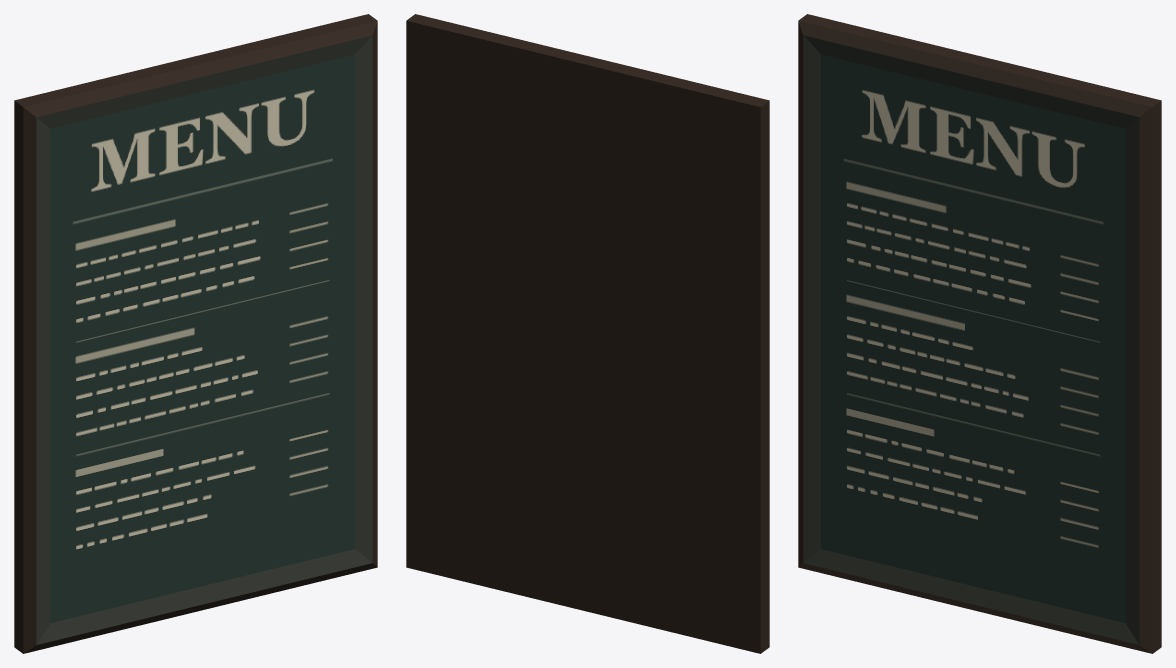
The model's file is Diner_Menu_Board_Vertical_Unity.fbx.
3 renders of one model, left to right at view 1: azimuth 30°, elevation 25°; view 2: azimuth 150°, elevation 25°; view 3: azimuth 330°, elevation 25°, orthographic.
Parts seen in each view (by area): view 1: Diner_Menu_Board; view 2: Diner_Menu_Board; view 3: Diner_Menu_Board.
Boxes of the visible parts, x1,y1,x2,y2 form: Diner_Menu_Board: (14, 14, 377, 653); Diner_Menu_Board: (406, 14, 769, 653); Diner_Menu_Board: (798, 14, 1161, 653).
Bounding box in the file's own units: 0.78 × 1.15 × 0.05.
